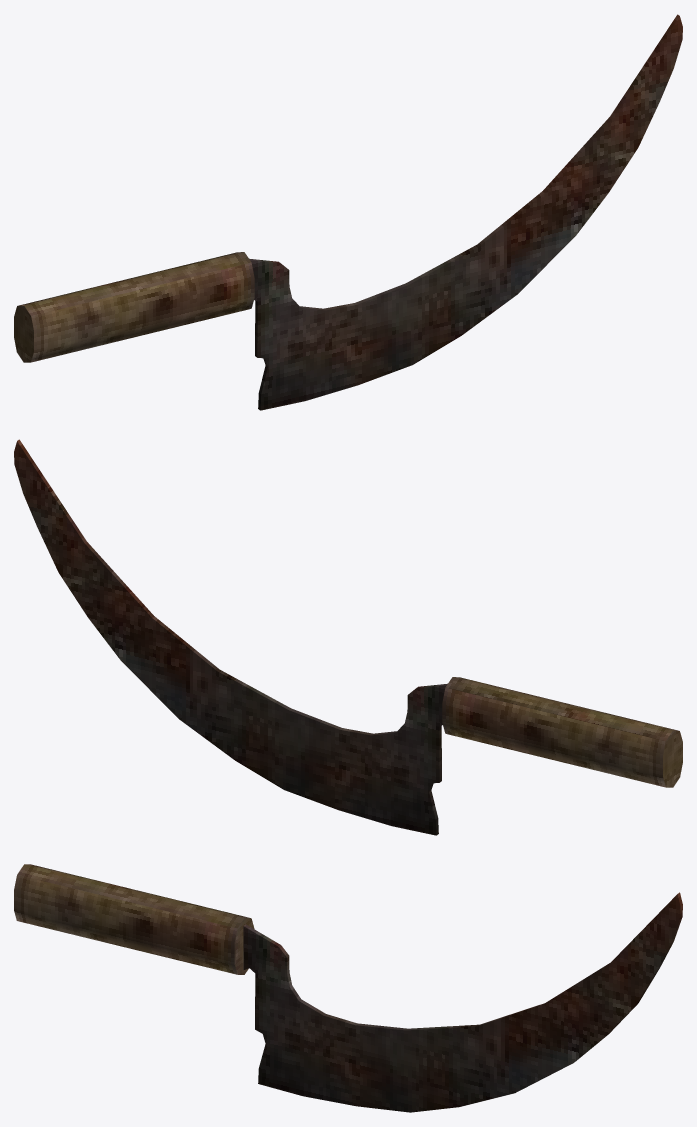
File: shop-item-1049.glb
3 views of the same model, one above another, from view 1: azimuth 30°, elevation 25°; view 2: azimuth 150°, elevation 25°; view 3: azimuth 330°, elevation 25° (orthographic).
Visible parts, largest first — view 1: sickle_mx_1; view 2: sickle_mx_1; view 3: sickle_mx_1.
Boxes of the visible parts, left/top/right/bottom form: sickle_mx_1: left=14, top=14, right=682, bottom=410; sickle_mx_1: left=14, top=439, right=682, bottom=835; sickle_mx_1: left=14, top=864, right=682, bottom=1112.
Size of the model in its own units: 0.4752 by 0.2027 by 0.025.
1 material, 1 textured.
